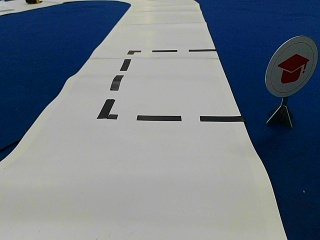school: (265, 36, 317, 96)
